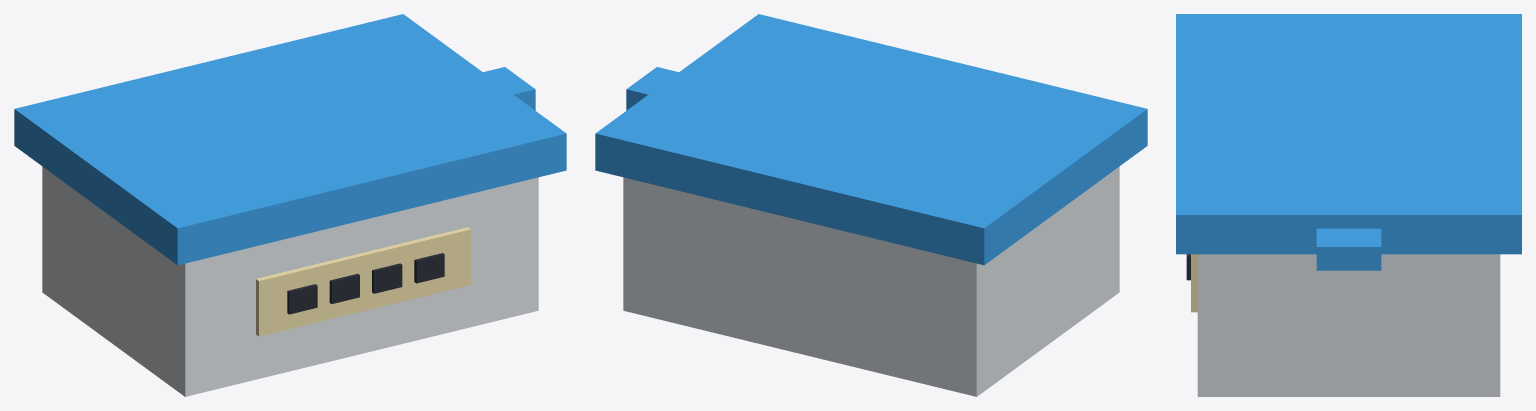
File: tupperware.glb
3 renders of one model, left to right at view 1: azimuth 30°, elevation 25°; view 2: azimuth 150°, elevation 25°; view 3: azimuth 270°, elevation 25°, orthographic. The views are drawn at different scales.
Visible parts, largest first — view 1: lid_tupper_lid, tub_tupper_tub, tape_tupper_tape, tape_tupper_ink; view 2: lid_tupper_lid, tub_tupper_tub; view 3: lid_tupper_lid, tub_tupper_tub, tape_tupper_tape.
Part boxes in pixels (x1,y1,x2,y2): lid_tupper_lid: (14,14,566,265); tub_tupper_tub: (42,166,538,396); tape_tupper_tape: (256,227,470,336); tape_tupper_ink: (287,253,444,314); lid_tupper_lid: (595,14,1147,265); tub_tupper_tub: (623,166,1119,396); lid_tupper_lid: (1176,14,1521,270); tub_tupper_tub: (1197,254,1500,396); tape_tupper_tape: (1191,254,1197,312).
Bounding box in the file's own units: 0.24 × 0.0975 × 0.16.
